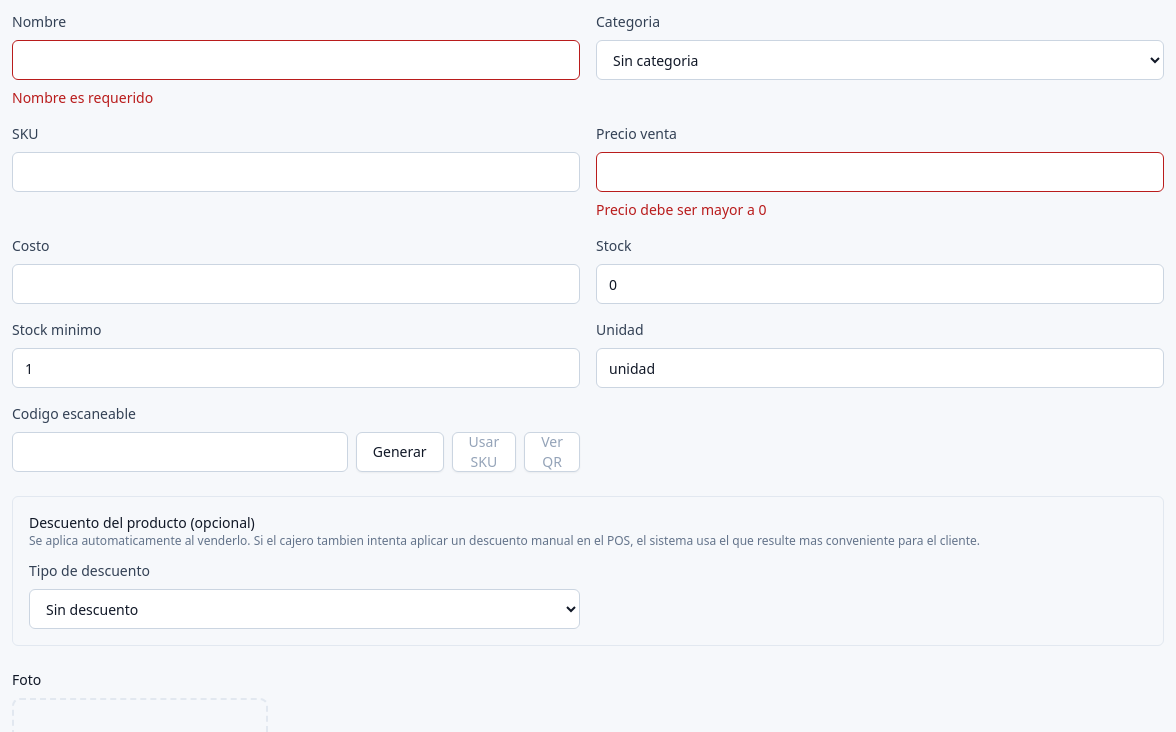
ProductForm › shows backend automatic SKU generation instead of a stale editable preview
Select "Cemento" in the dropdown labelled "Categoria": (880, 60) [596,40,1164,80]
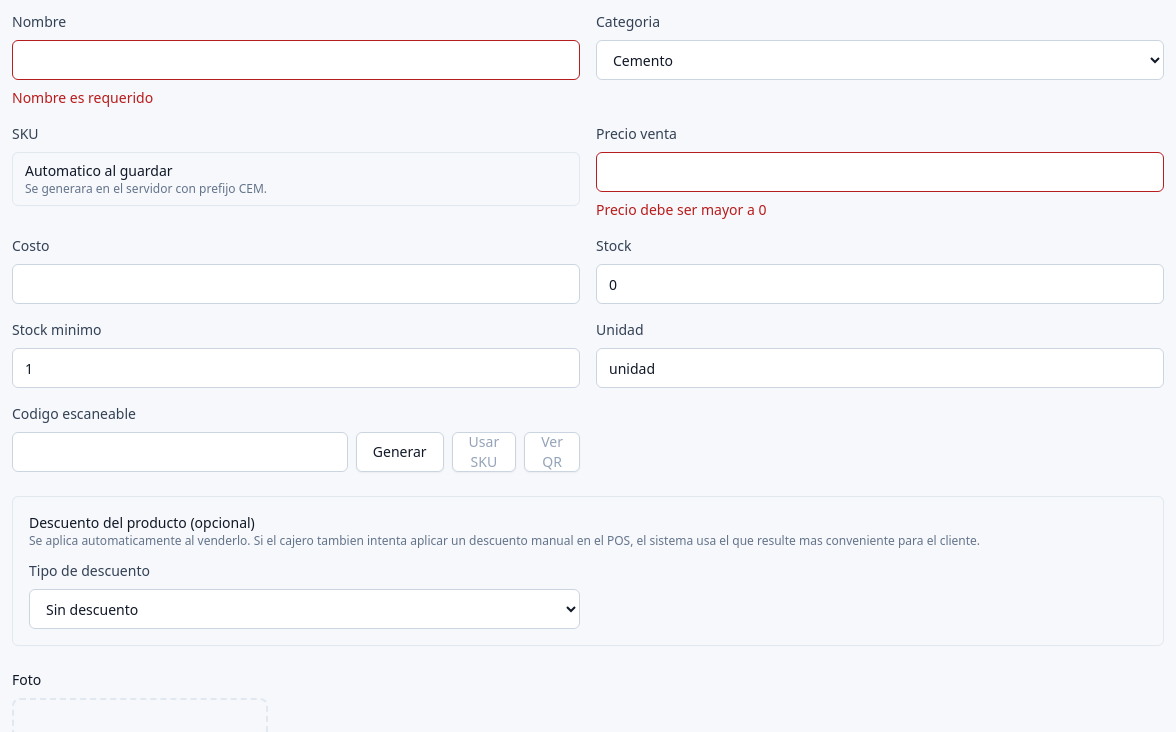
Expected: the text "Automatico al guardar" is shown, [25,161,172,180]
Expected: the text "Se generara en el servidor con prefijo CEM." is shown, [25,180,267,197]
